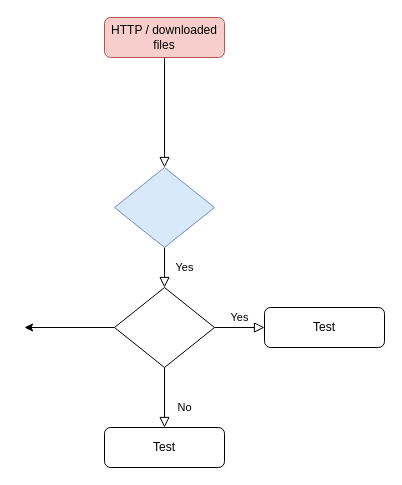
Image size: 402x485. Some labels were removed from this diagram. Each missing label, with the centre of its shape:
Data processing: the point at 164,327
Trigger reader: the point at 164,207
